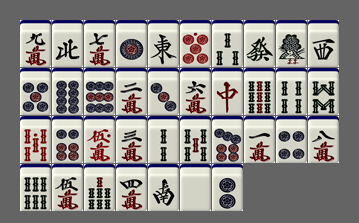0m: (84, 116, 115, 163)
0p: (180, 20, 211, 67)
0s: (20, 116, 51, 163)
1m: (244, 116, 275, 163)
1p: (116, 20, 147, 67)
1s: (276, 20, 307, 67)
1z: (148, 20, 179, 67)
2m: (116, 68, 147, 115)
2p: (212, 164, 243, 211)
2s: (148, 116, 179, 163)
2z: (148, 164, 179, 211)
3m: (116, 116, 147, 163)
3p: (148, 68, 179, 115)
3s: (212, 20, 243, 67)
3z: (308, 20, 339, 67)
4m: (116, 164, 147, 211)
4p: (276, 116, 307, 163)
4s: (276, 68, 307, 115)
4z: (52, 20, 83, 67)
5m: (52, 164, 83, 211)
5p: (20, 68, 51, 115)
5s: (180, 116, 211, 163)
5z: (180, 164, 211, 211)
6m: (180, 68, 211, 115)
6p: (52, 116, 83, 163)
6s: (20, 164, 51, 211)
6z: (244, 20, 275, 67)
7m: (84, 20, 115, 67)
7p: (212, 116, 243, 163)
7s: (84, 164, 115, 211)
7z: (212, 68, 243, 115)
8m: (308, 116, 339, 163)
8p: (52, 68, 83, 115)
8s: (308, 68, 339, 115)
9m: (20, 20, 51, 67)
9p: (84, 68, 115, 115)
9s: (244, 68, 275, 115)
